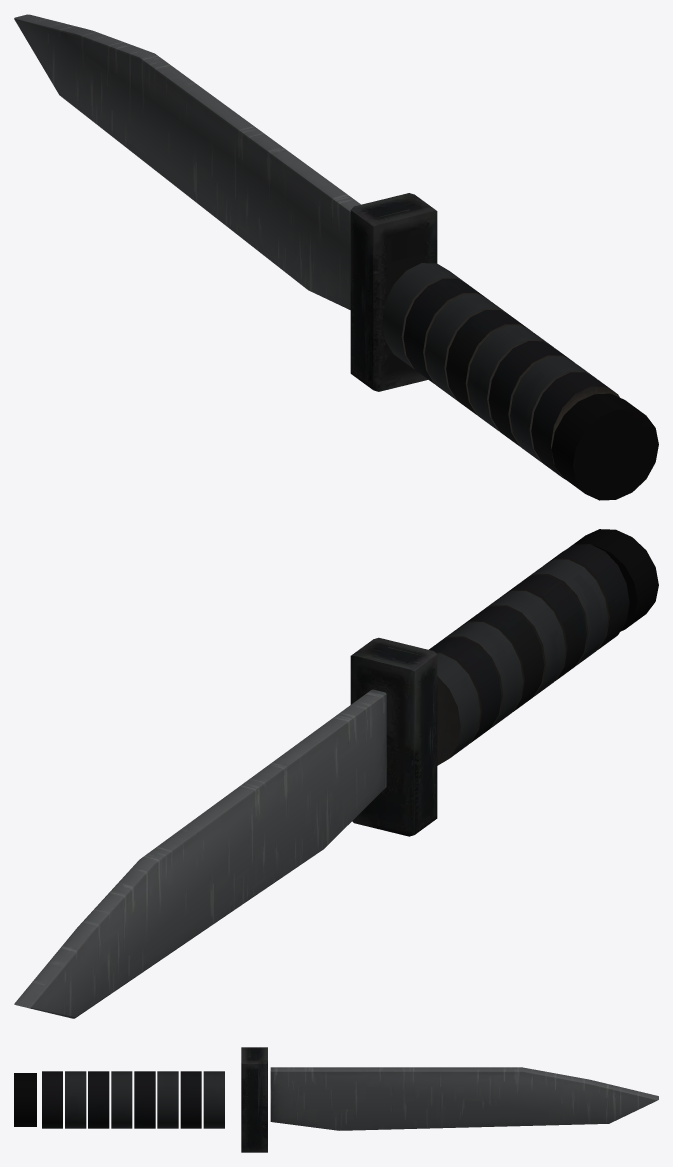
Rendered from knife_classic.glb.
3 views of the same model, one above another, from view 1: azimuth 30°, elevation 25°; view 2: azimuth 150°, elevation 25°; view 3: azimuth 270°, elevation 25° (orthographic). The views are drawn at different scales.
Parts seen in each view (by area): view 1: body_receiver, body_metal, body_furniture; view 2: body_receiver, body_metal, body_furniture; view 3: body_receiver, body_metal, body_furniture.
Boxes of the visible parts, box(x1,y1,x2,y2) form: body_receiver: box(14, 14, 437, 391); body_metal: box(403, 278, 658, 500); body_furniture: box(382, 263, 596, 462); body_receiver: box(14, 637, 437, 1018); body_metal: box(429, 529, 658, 743); body_furniture: box(436, 559, 608, 765); body_receiver: box(241, 1047, 658, 1152); body_metal: box(14, 1071, 201, 1128); body_furniture: box(65, 1071, 224, 1128).
Bounding box in the file's own units: 0.028 × 0.052 × 0.335.
3 materials, 3 textured.
